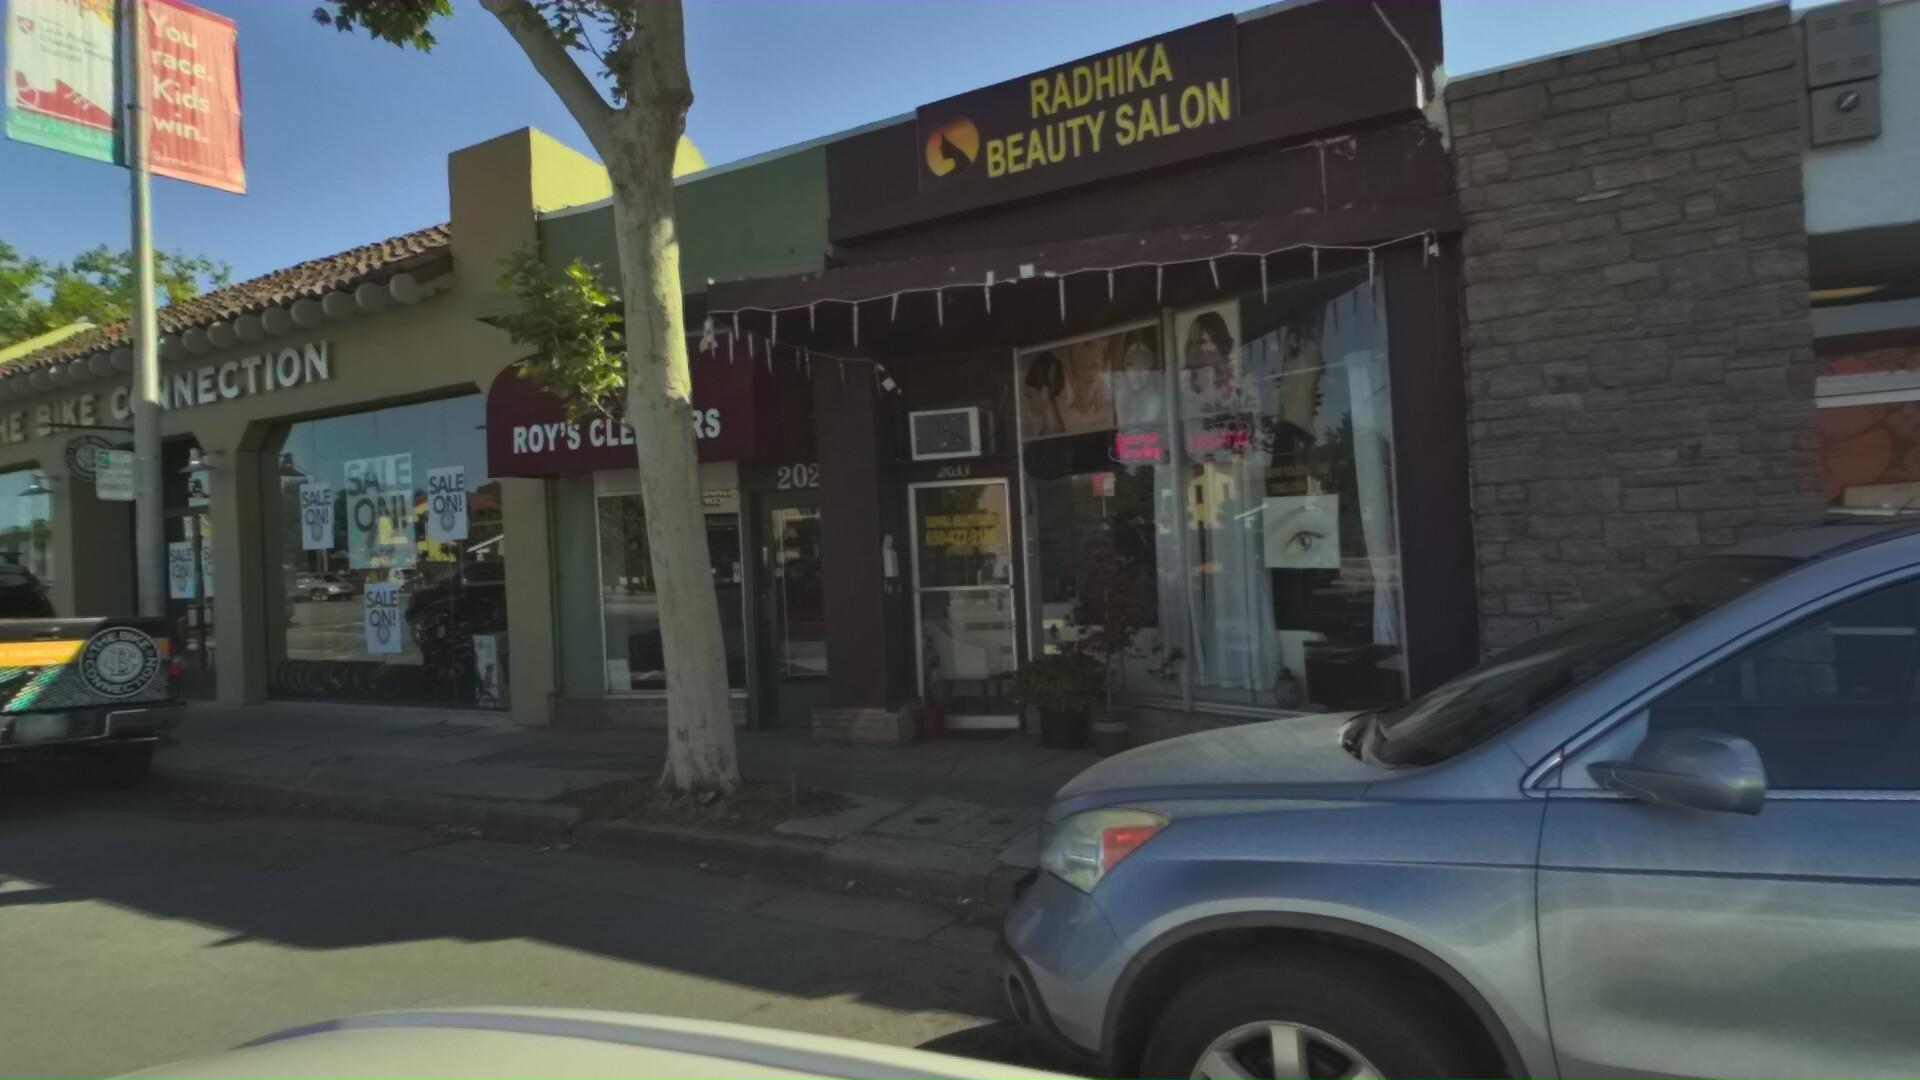car: (819, 47, 1920, 1080), (0, 497, 233, 857)
